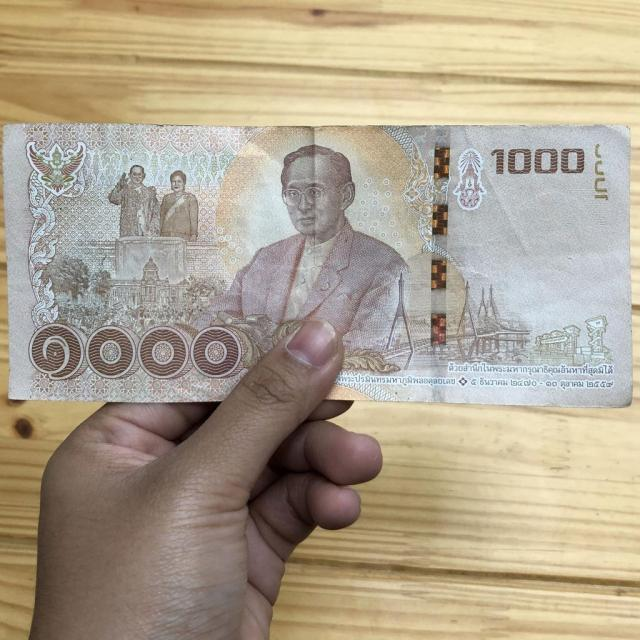THAI1000: (4, 124, 630, 407)
